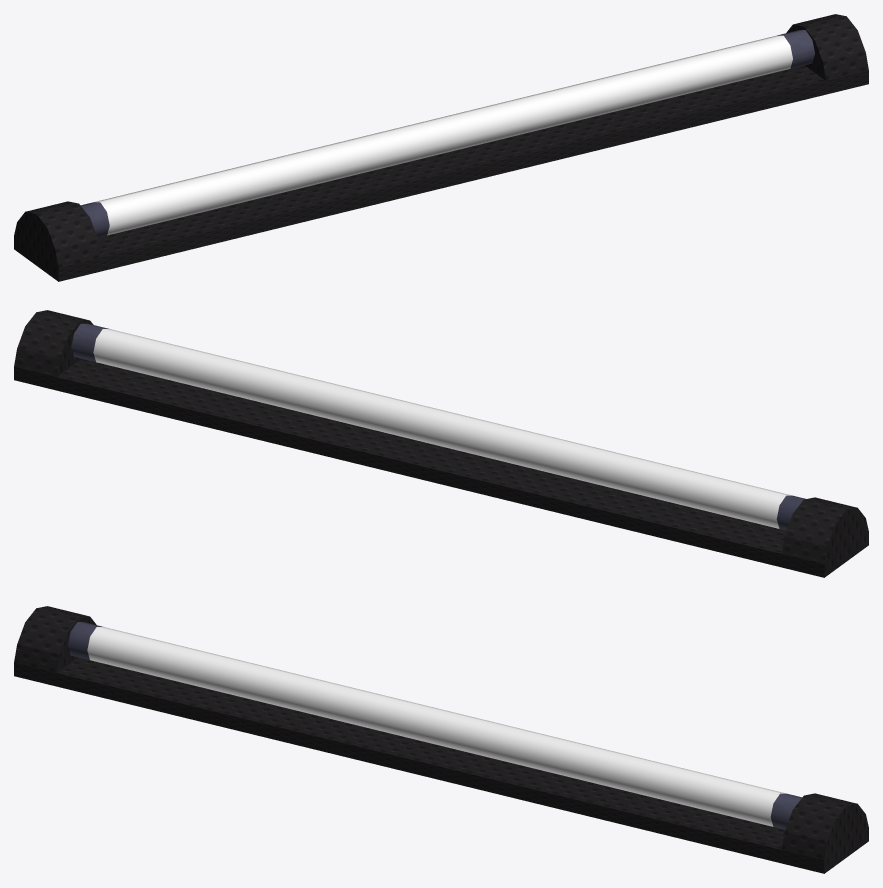
Rendered from light1.FBX.
The picture shows the model from 3 angles, top to bottom: view 1: azimuth 30°, elevation 25°; view 2: azimuth 150°, elevation 25°; view 3: azimuth 330°, elevation 25°; orthographic projection.
Visible parts, largest first — view 1: light1; view 2: light1; view 3: light1.
Part boxes in pixels (x1=…): light1: x1=14, y1=14, x2=868, y2=281; light1: x1=14, y1=310, x2=868, y2=577; light1: x1=14, y1=606, x2=868, y2=873.
Bounding box in the file's own units: 6.29 × 0.3829 × 0.6.
